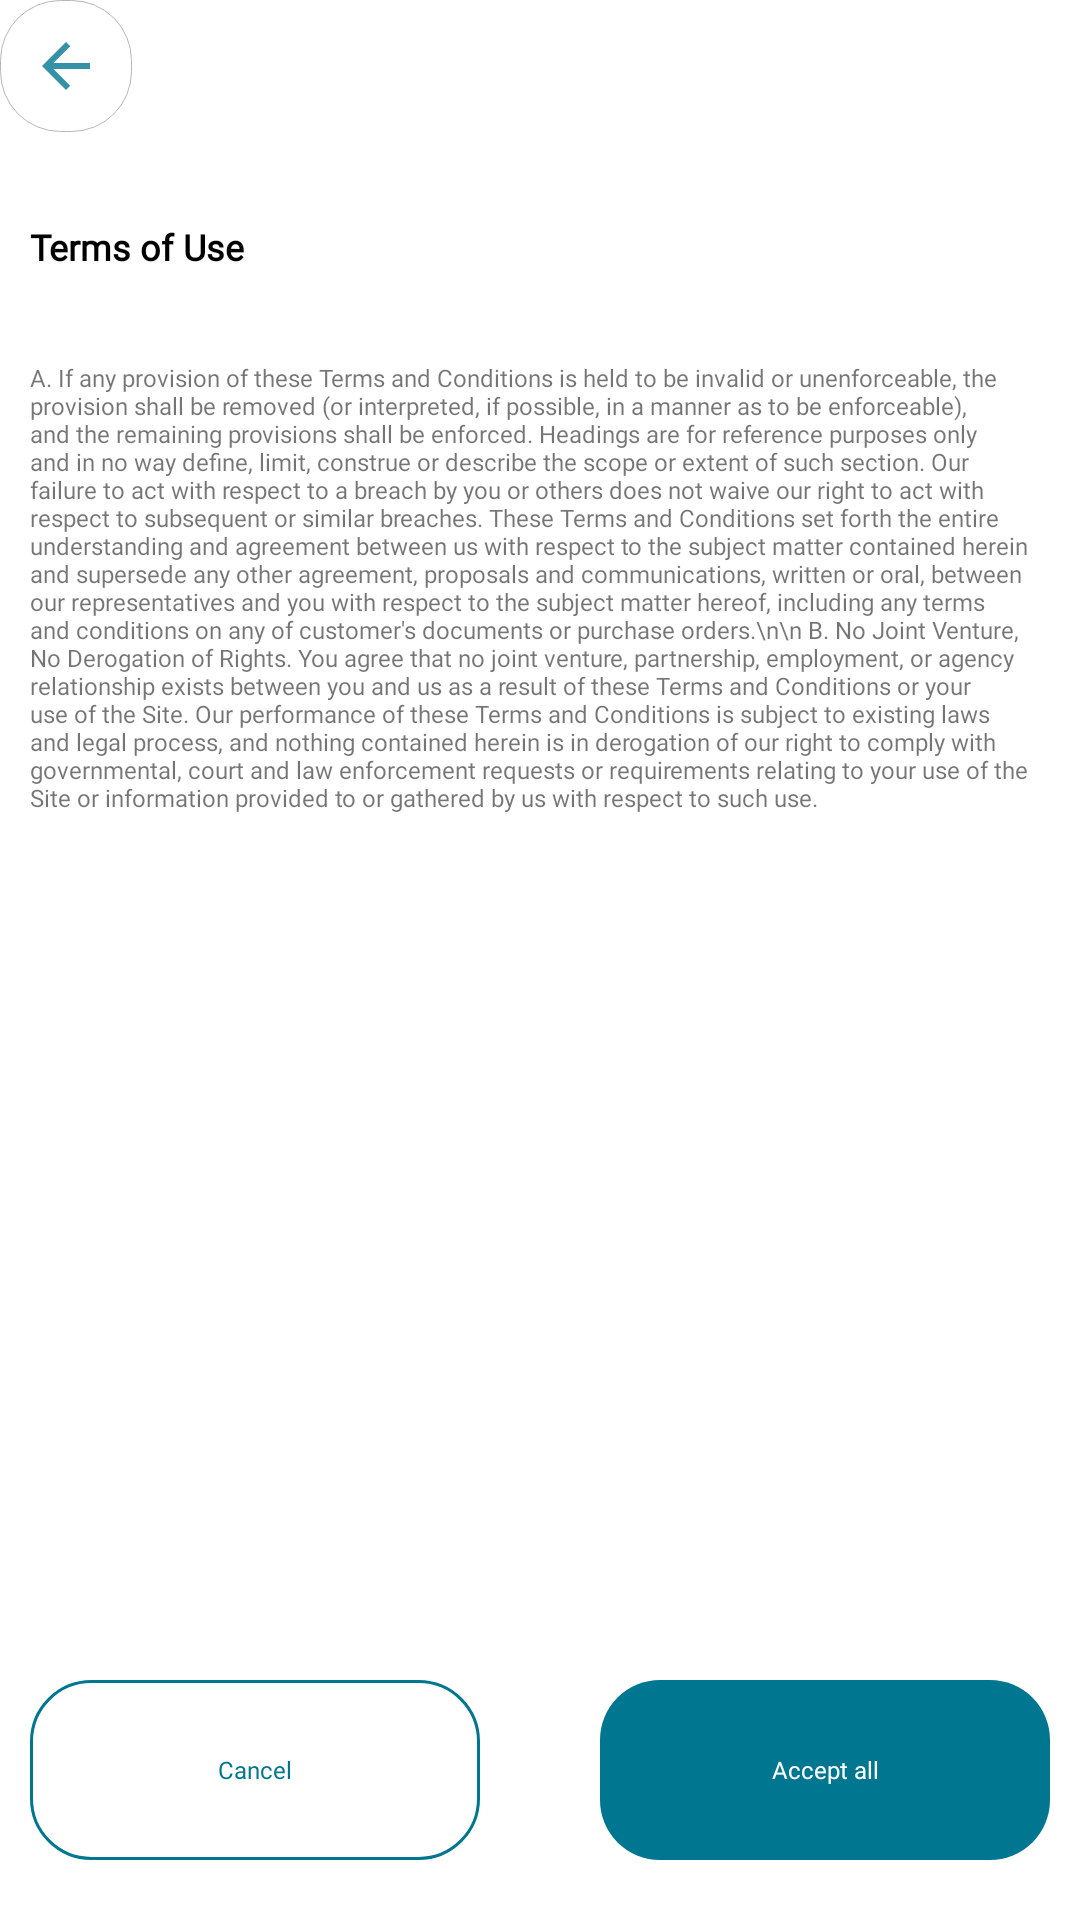

Icon click points for this 1080 x 1920 phone screenshot, format (x,y):
arrow back: (66,66)
